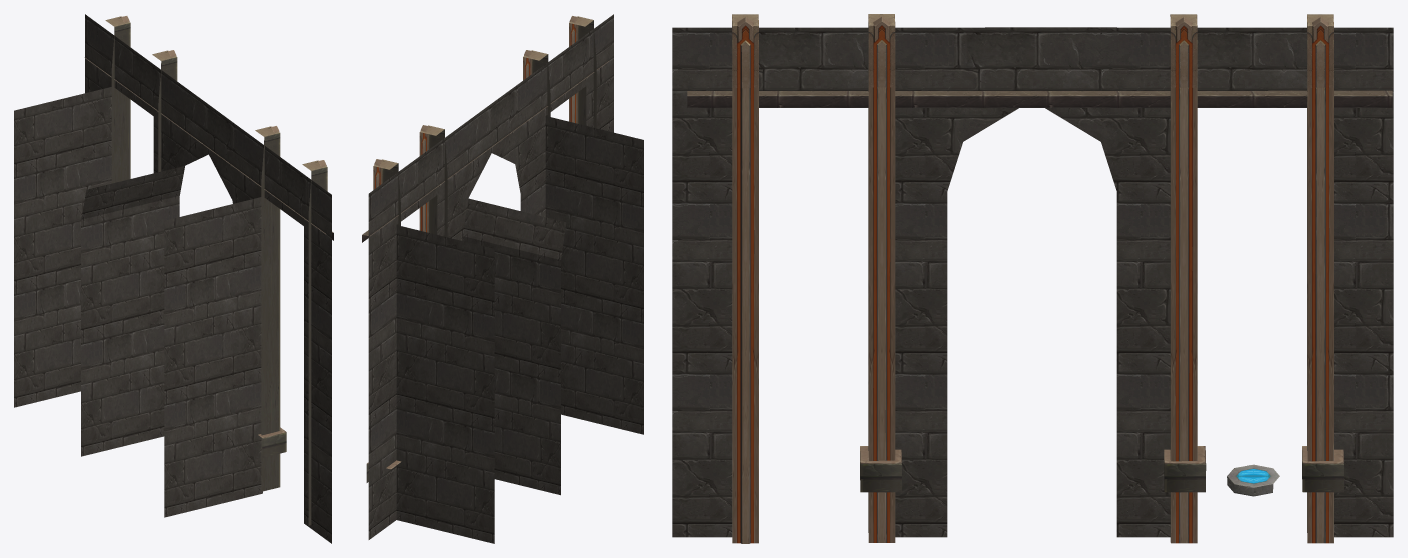
Rendered from terrain_section03_guanka1111.FBX.
3 views of the same model, side by side, from view 1: azimuth 30°, elevation 25°; view 2: azimuth 150°, elevation 25°; view 3: azimuth 270°, elevation 25° (orthographic). The views are drawn at different scales.
Visible parts, largest first — view 1: terrain_section03_guanka1111; view 2: terrain_section03_guanka1111; view 3: terrain_section03_guanka1111.
Boxes of the visible parts, x1,y1,x2,y2 form: terrain_section03_guanka1111: (14, 14, 333, 543); terrain_section03_guanka1111: (362, 14, 643, 543); terrain_section03_guanka1111: (672, 14, 1393, 543).
Bounding box in the file's own units: 10.87 × 29.82 × 36.91.
